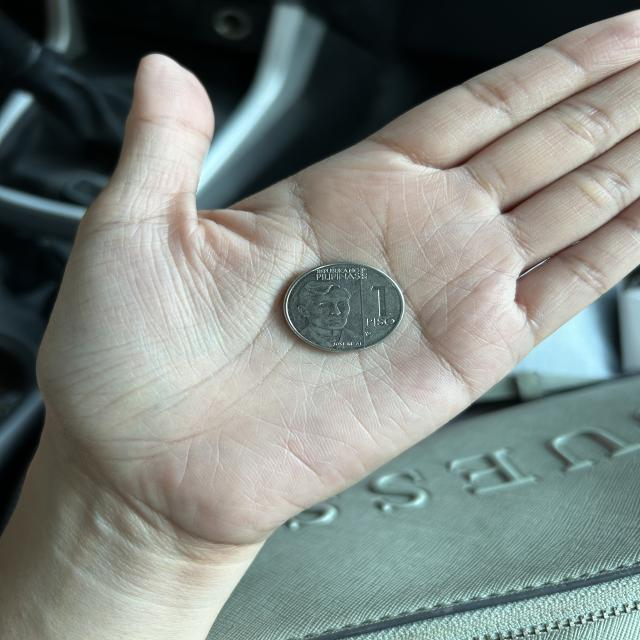1_New_Front: (358, 281, 403, 328)
